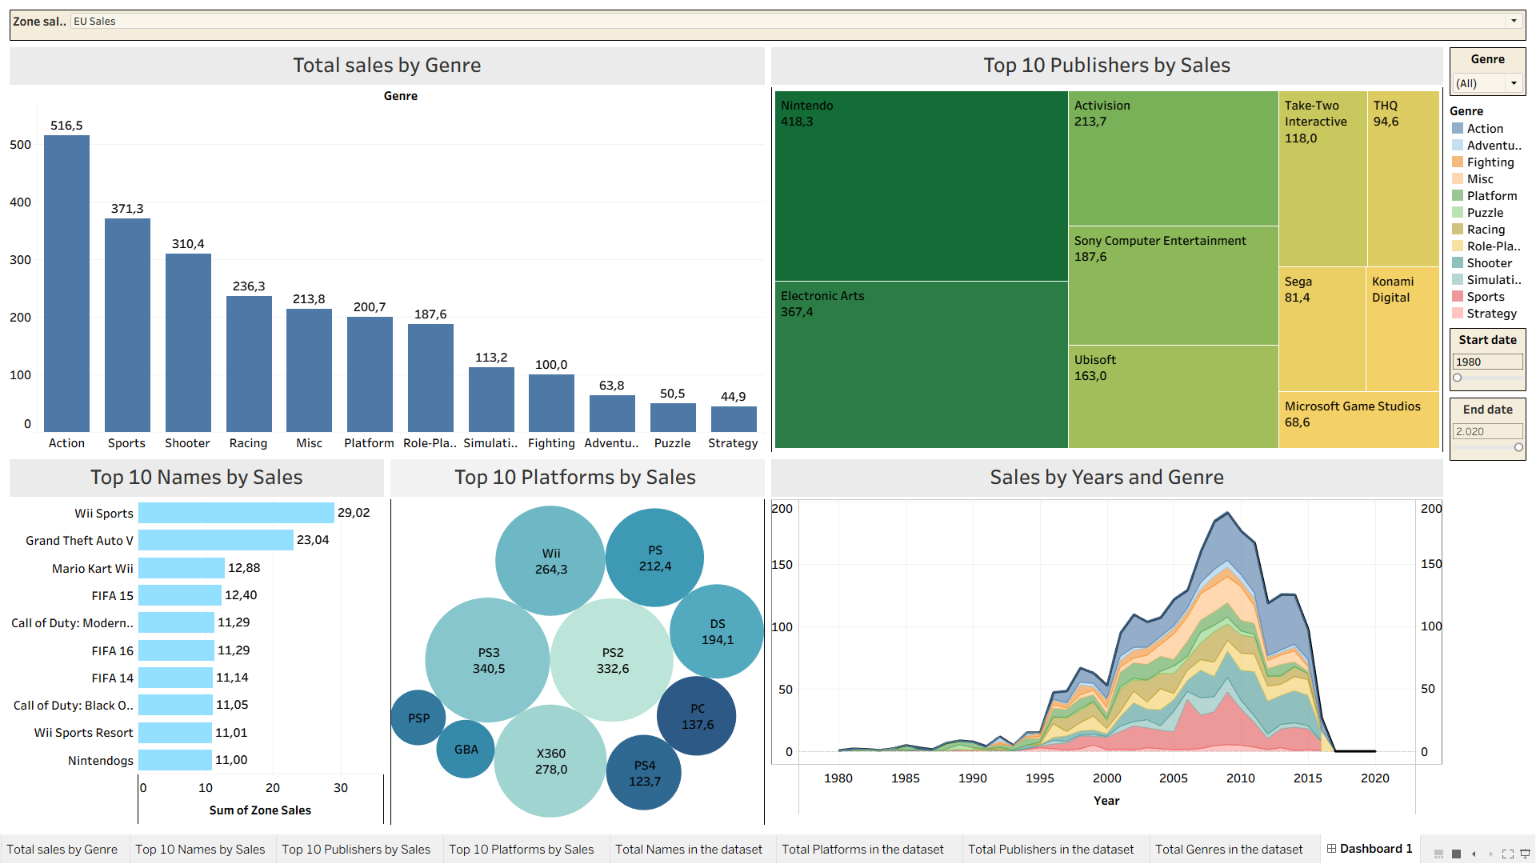

The page's visual inventory and layout, read from the dashboard file:
{"tool":"tableau","page":{"name":"Dashboard 1","canvas":[1000,1000],"units":"permille","ordinal":0},"visuals":[{"type":"parameter","param":"[Parameters].[Parameter 1]","box":[4.8,9.4,990.3,44.6]},{"type":"worksheet","title":"Total sales by Genre","mark":"Automatic","rows":["Calculation_0670219982696448"],"cols":["Genre"],"box":[4.8,54.1,495.2,492.4]},{"type":"worksheet","title":"Top 10 Publishers by Sales","mark":"Automatic","box":[500,54.1,432.4,492.4]},{"type":"filter","title":"Sales by Years and Genre","param":"[federated.1nba2vq1kbixln1108jv91hi26bf].[none:Genre:nk]","box":[932.4,54.1,62.8,81.1]},{"type":"legend","title":"Sales by Years and Genre","param":"[federated.1nba2vq1kbixln1108jv91hi26bf].[none:Genre:nk]","box":[932.4,135.1,62.8,331.4]},{"type":"parameter","param":"[Parameters].[Parameter 2]","box":[932.4,466.5,62.8,102.2]},{"type":"worksheet","title":"Top 10 Names by Sales","mark":"Automatic","rows":["Name"],"cols":["Calculation_0670219982696448"],"box":[4.8,546.4,247.6,444.2]},{"type":"worksheet","title":"Top 10 Platforms by Sales ","mark":"Circle","box":[252.4,546.4,247.6,444.2]},{"type":"worksheet","title":"Sales by Years and Genre","mark":"Automatic","rows":["Calculation_0670219982696448","Calculation_0670219982696448"],"cols":["Year"],"box":[500,546.4,432.4,444.2]},{"type":"parameter","param":"[Parameters].[Parameter 3]","box":[932.4,568.7,62.8,102.2]}]}

Visuals, with their boxes on the dashboard's canvas, which has no fixed pixel size, in thousandths of its width and height (x1, y1, x2, y2). These are canvas units, not pixel positions in the 1536x863 screenshot, which may show the page scaled, cropped or inside an application window:
parameter: detection(5, 9, 995, 54)
"Total sales by Genre" worksheet: detection(5, 54, 500, 546)
"Top 10 Publishers by Sales" worksheet: detection(500, 54, 932, 546)
"Sales by Years and Genre" filter: detection(932, 54, 995, 135)
"Sales by Years and Genre" legend: detection(932, 135, 995, 466)
parameter: detection(932, 466, 995, 569)
"Top 10 Names by Sales" worksheet: detection(5, 546, 252, 991)
"Top 10 Platforms by Sales " worksheet (Circle marks): detection(252, 546, 500, 991)
"Sales by Years and Genre" worksheet: detection(500, 546, 932, 991)
parameter: detection(932, 569, 995, 671)
